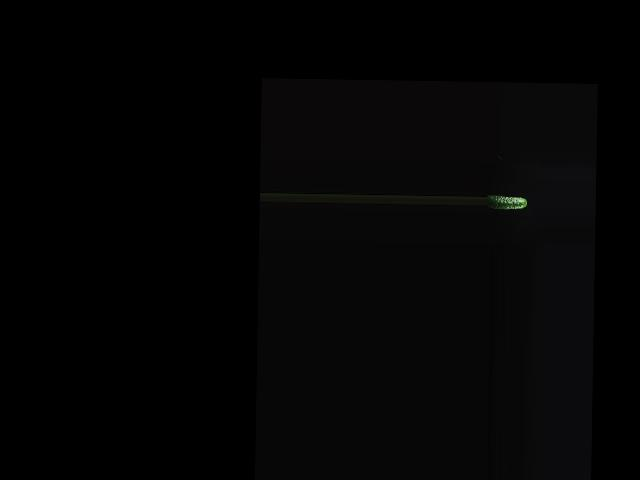cucumber: (485, 194, 527, 209)
